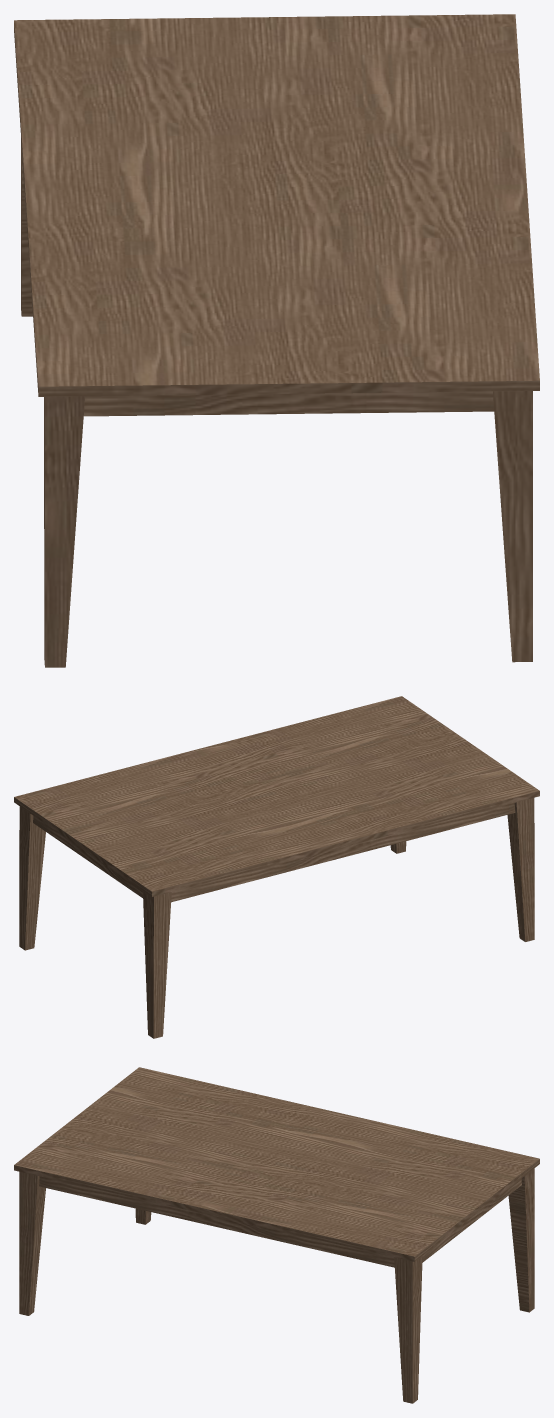
3 renders of one model, top to bottom at view 1: azimuth 30°, elevation 25°; view 2: azimuth 150°, elevation 25°; view 3: azimuth 270°, elevation 25°, orthographic. The views are drawn at different scales.
Visible parts, largest first — view 1: Table_13002_Wood_08003_0; view 2: Table_13002_Wood_08003_0; view 3: Table_13002_Wood_08003_0.
Boxes of the visible parts, x1,y1,x2,y2 form: Table_13002_Wood_08003_0: (14,14,539,667); Table_13002_Wood_08003_0: (14,696,539,1038); Table_13002_Wood_08003_0: (14,1067,539,1403).
Size of the model in its own units: 2.25 by 0.8253 by 2.63.
1 material, 1 textured.
